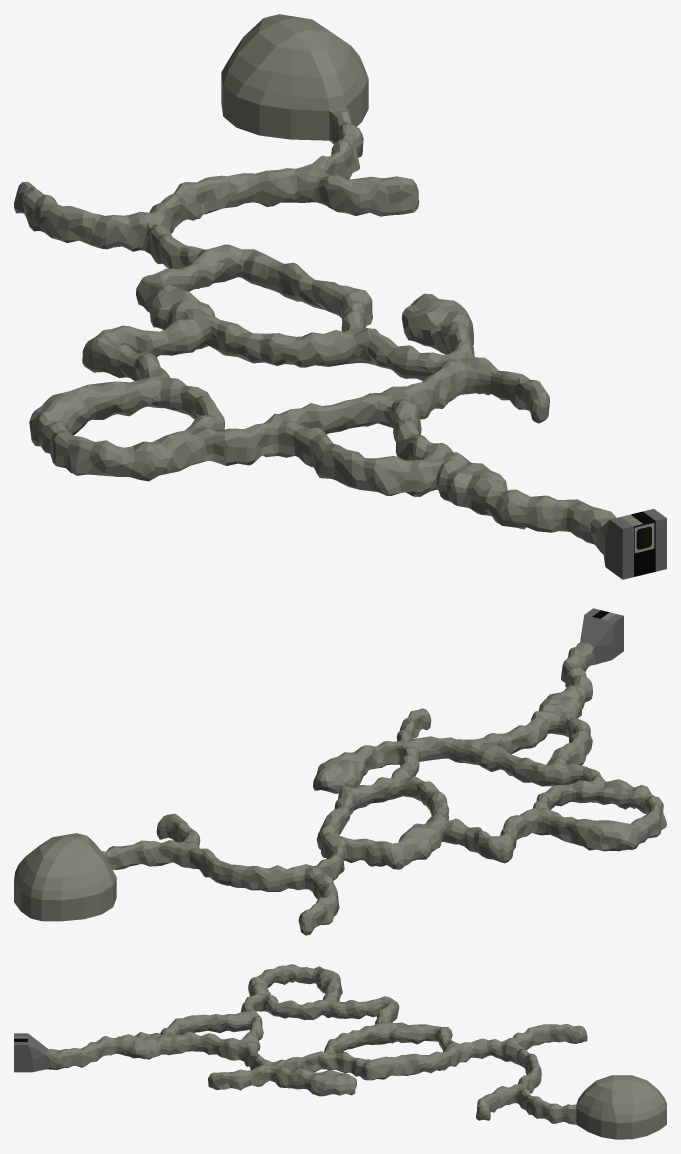
Rendered from Jeskyne hotova.fbx.
3 views of the same model, one above another, from view 1: azimuth 30°, elevation 25°; view 2: azimuth 150°, elevation 25°; view 3: azimuth 270°, elevation 25° (orthographic). The views are drawn at different scales.
Parts seen in each view (by area): view 1: jeskyně; view 2: jeskyně; view 3: jeskyně.
Boxes of the visible parts, x1,y1,x2,y2 form: jeskyně: (14,14,666,579); jeskyně: (14,608,666,935); jeskyně: (14,964,666,1139).
Size of the model in its own units: 10899 by 1431 by 18747.
